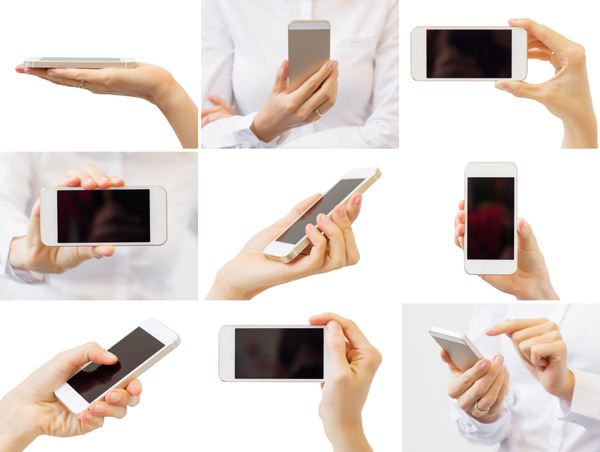phone: (216, 162, 387, 299), (9, 313, 182, 440), (211, 307, 386, 432), (400, 15, 592, 125), (15, 161, 172, 278), (426, 311, 567, 428), (448, 156, 555, 299), (13, 44, 180, 123), (264, 13, 343, 136)
